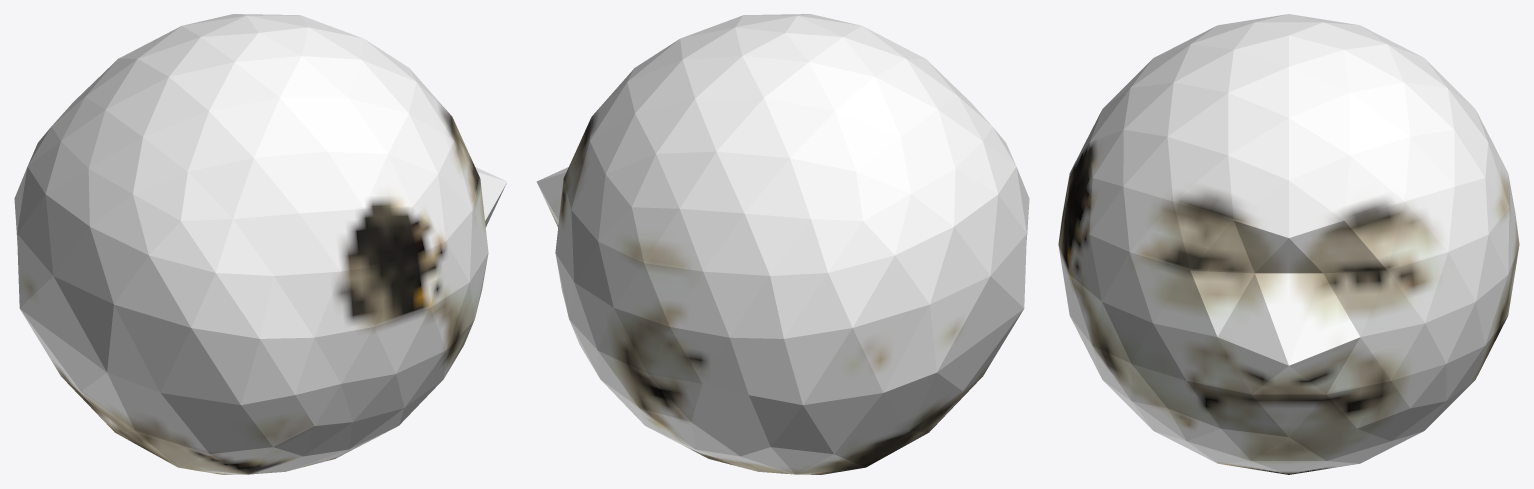
Rendered from Wcell.glb.
The picture shows the model from 3 angles, left to right: view 1: azimuth 30°, elevation 25°; view 2: azimuth 150°, elevation 25°; view 3: azimuth 270°, elevation 25°; orthographic projection.
Visible parts, largest first — view 1: Icosphere; view 2: Icosphere; view 3: Icosphere.
Boxes of the visible parts, left/top/right/bottom form: Icosphere: left=14, top=14, right=507, bottom=474; Icosphere: left=536, top=14, right=1029, bottom=474; Icosphere: left=1058, top=14, right=1519, bottom=474.
Bounding box in the file's own units: 2.27 × 2 × 2.
Materials: 1 (1 with a texture image).
